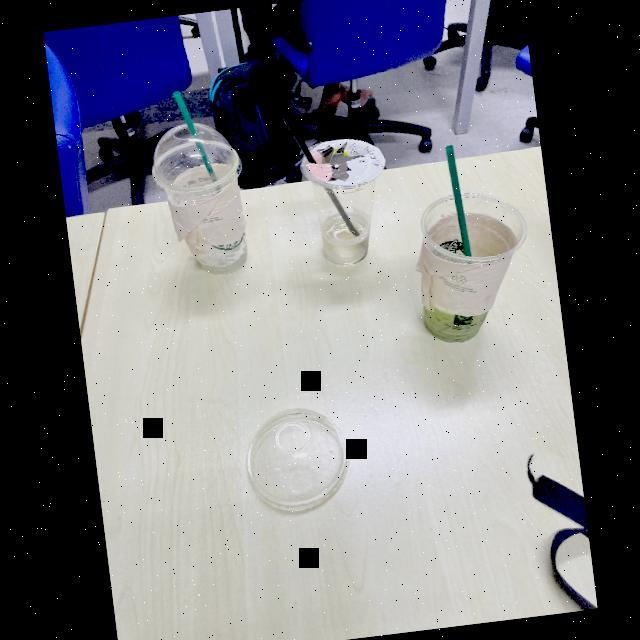plastic_cup: (394, 178, 542, 350), (148, 133, 278, 290), (288, 136, 394, 274)
plastic_cup_lid: (224, 397, 368, 529), (136, 114, 250, 198)
straw: (280, 106, 354, 242), (171, 85, 230, 199), (433, 132, 480, 273)
